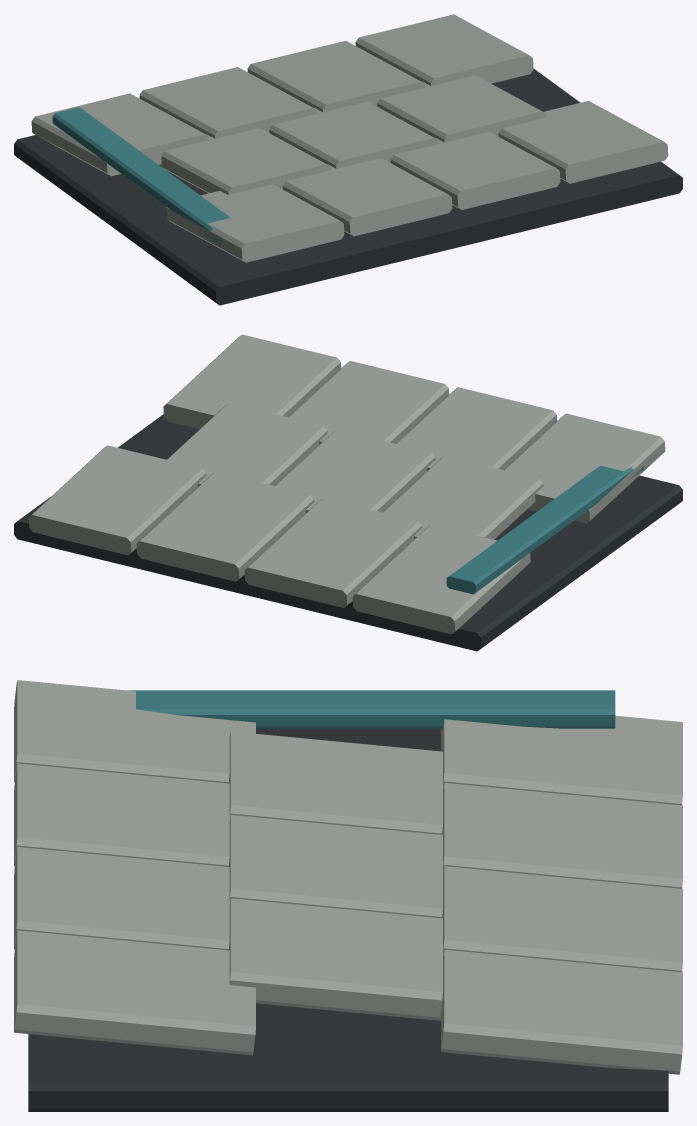
The model's file is SubdermalPlating.gltf.
The picture shows the model from 3 angles, top to bottom: view 1: azimuth 30°, elevation 25°; view 2: azimuth 150°, elevation 25°; view 3: azimuth 270°, elevation 25°; orthographic projection. The views are drawn at different scales.
Parts seen in each view (by area): view 1: SubdermalPlating; view 2: SubdermalPlating; view 3: SubdermalPlating.
Boxes of the visible parts, x1,y1,x2,y2 form: SubdermalPlating: (14, 14, 682, 305); SubdermalPlating: (14, 334, 682, 651); SubdermalPlating: (14, 680, 682, 1111).
Bounding box in the file's own units: 0.32 × 0.0387 × 0.2508.
